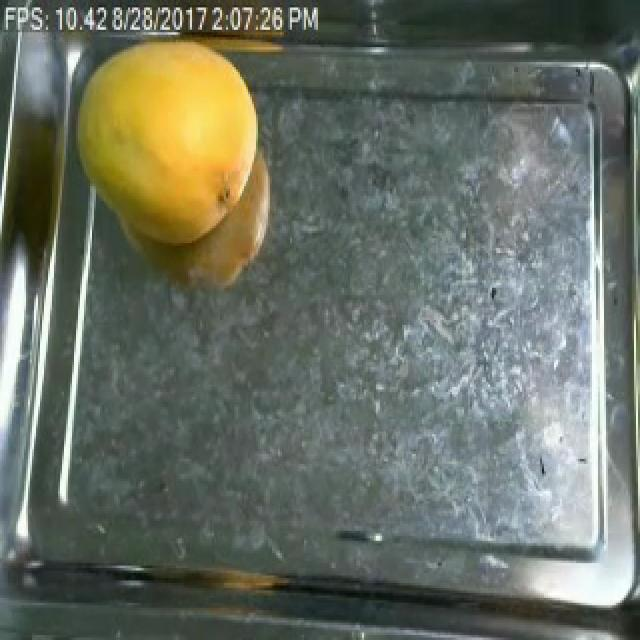fruit: (62, 22, 272, 258)
